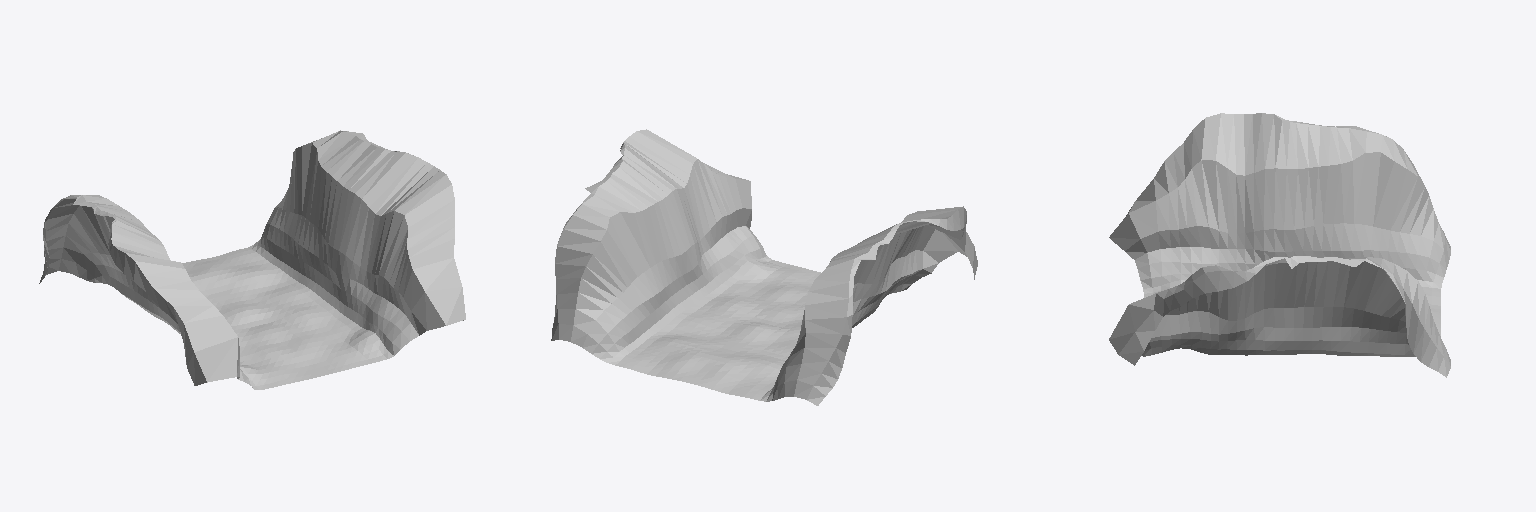
The model's file is planoI.obj.
3 views of the same model, side by side, from view 1: azimuth 30°, elevation 25°; view 2: azimuth 150°, elevation 25°; view 3: azimuth 270°, elevation 25° (orthographic).
Visible parts, largest first — view 1: Plane; view 2: Plane; view 3: Plane.
Part boxes in pixels (left/top/right/bottom): Plane: left=39, top=130, right=465, bottom=389; Plane: left=551, top=129, right=977, bottom=405; Plane: left=1109, top=113, right=1450, bottom=377.
Size of the model in its own units: 2.54 by 1.04 by 2.31.